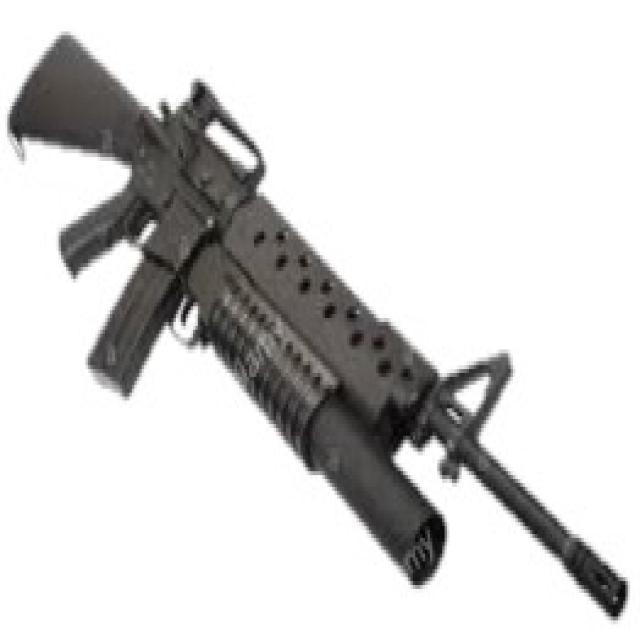rifle: (5, 21, 636, 620)
